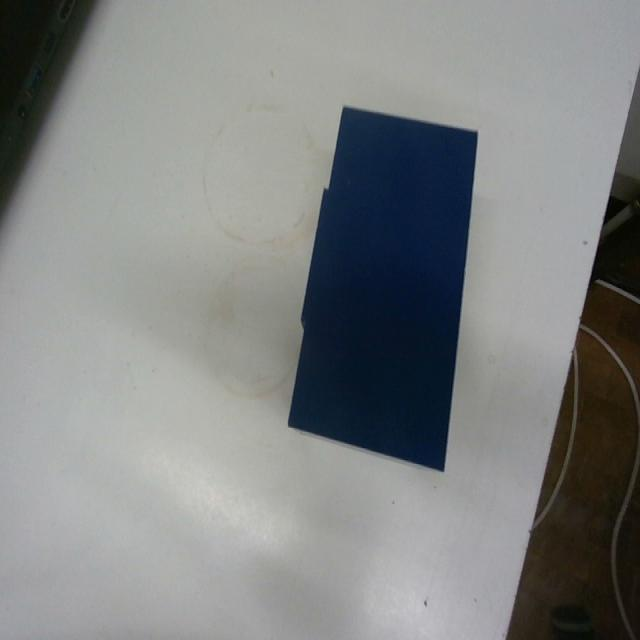Blue Cuboid: (285, 101, 479, 474)
